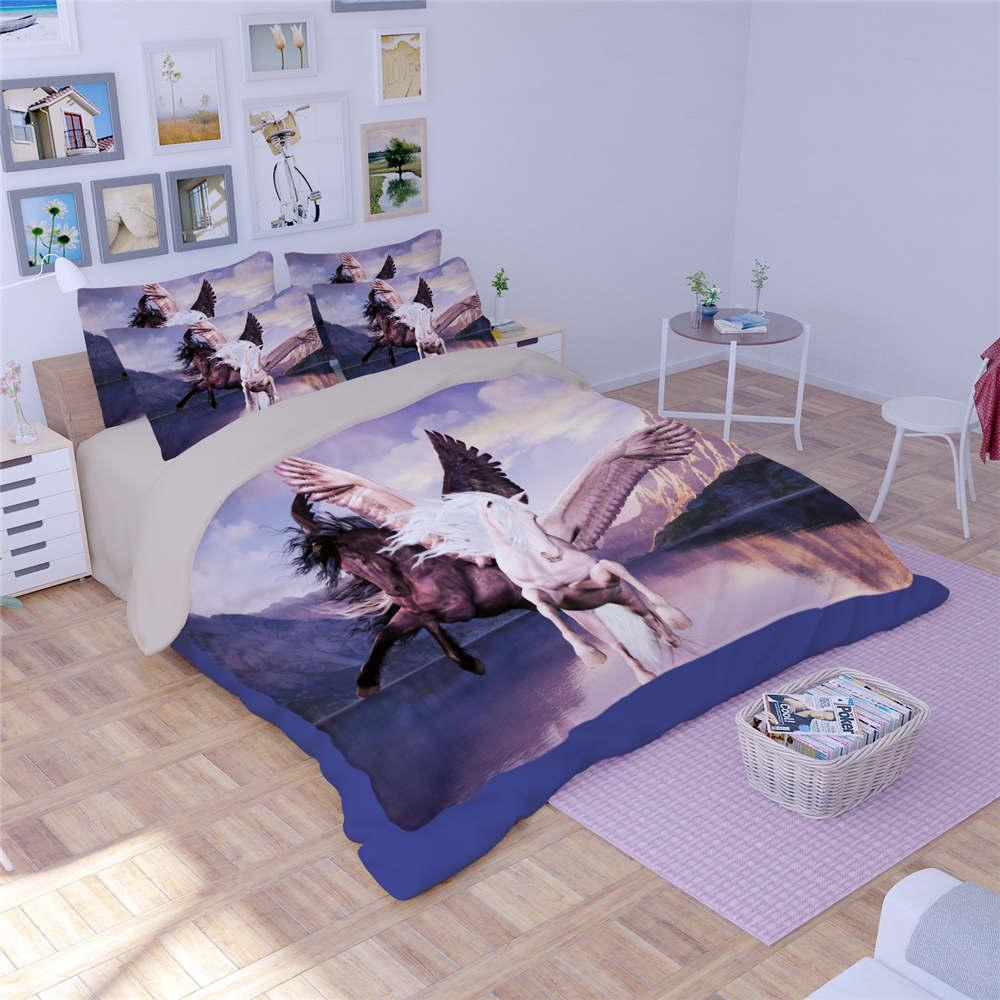bed: (132, 232, 827, 715)
